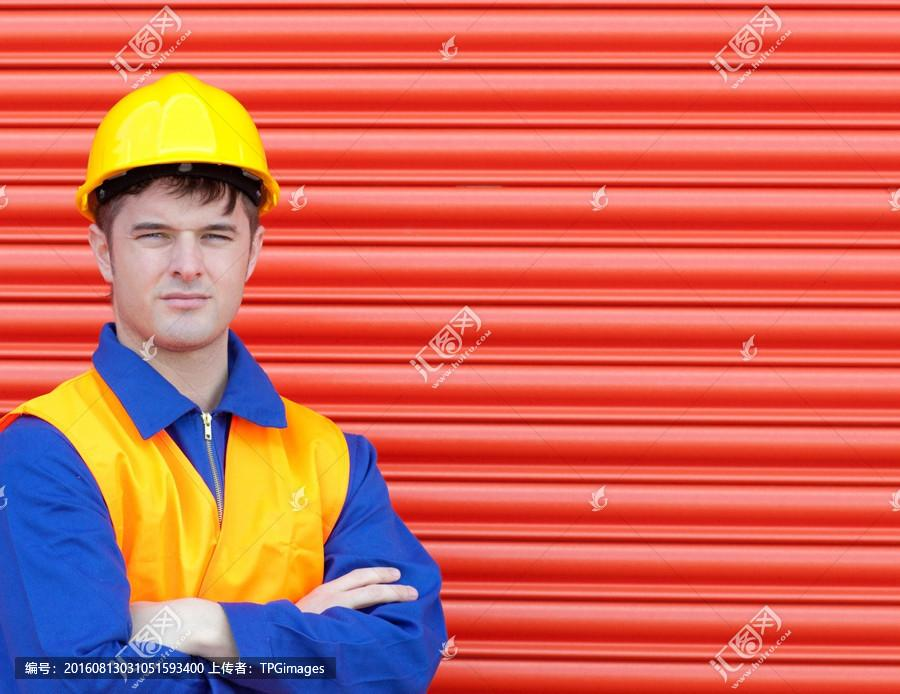helmet: (71, 71, 287, 218)
